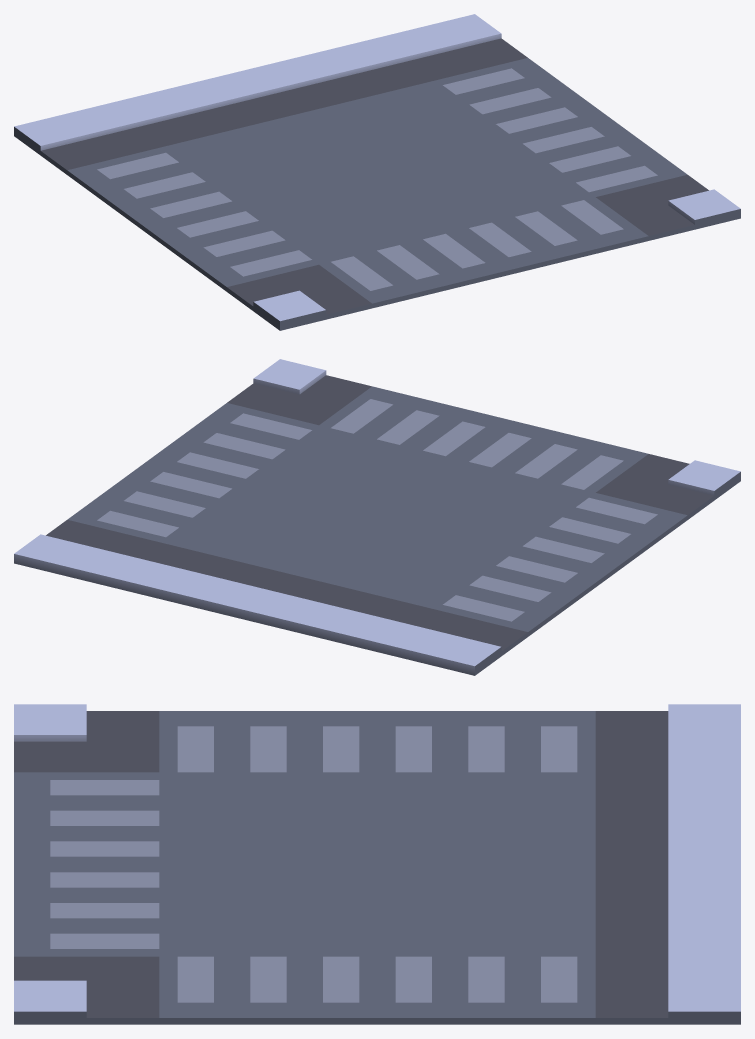
The model's file is road-intersection-path.glb.
The picture shows the model from 3 angles, top to bottom: view 1: azimuth 30°, elevation 25°; view 2: azimuth 150°, elevation 25°; view 3: azimuth 270°, elevation 25°; orthographic projection. The views are drawn at different scales.
Visible parts, largest first — view 1: road-intersection-path; view 2: road-intersection-path; view 3: road-intersection-path.
Boxes of the visible parts, left/top/right/bottom form: road-intersection-path: left=14, top=14, right=740, bottom=330; road-intersection-path: left=14, top=359, right=740, bottom=675; road-intersection-path: left=14, top=704, right=740, bottom=1024.
Bounding box in the file's own units: 1 × 0.02 × 1.
Materials: 1 (1 with a texture image).
